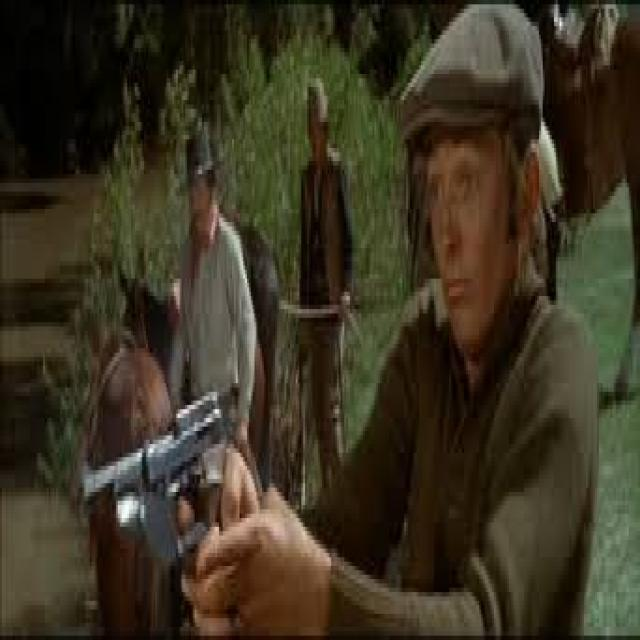gun: (77, 367, 239, 596)
